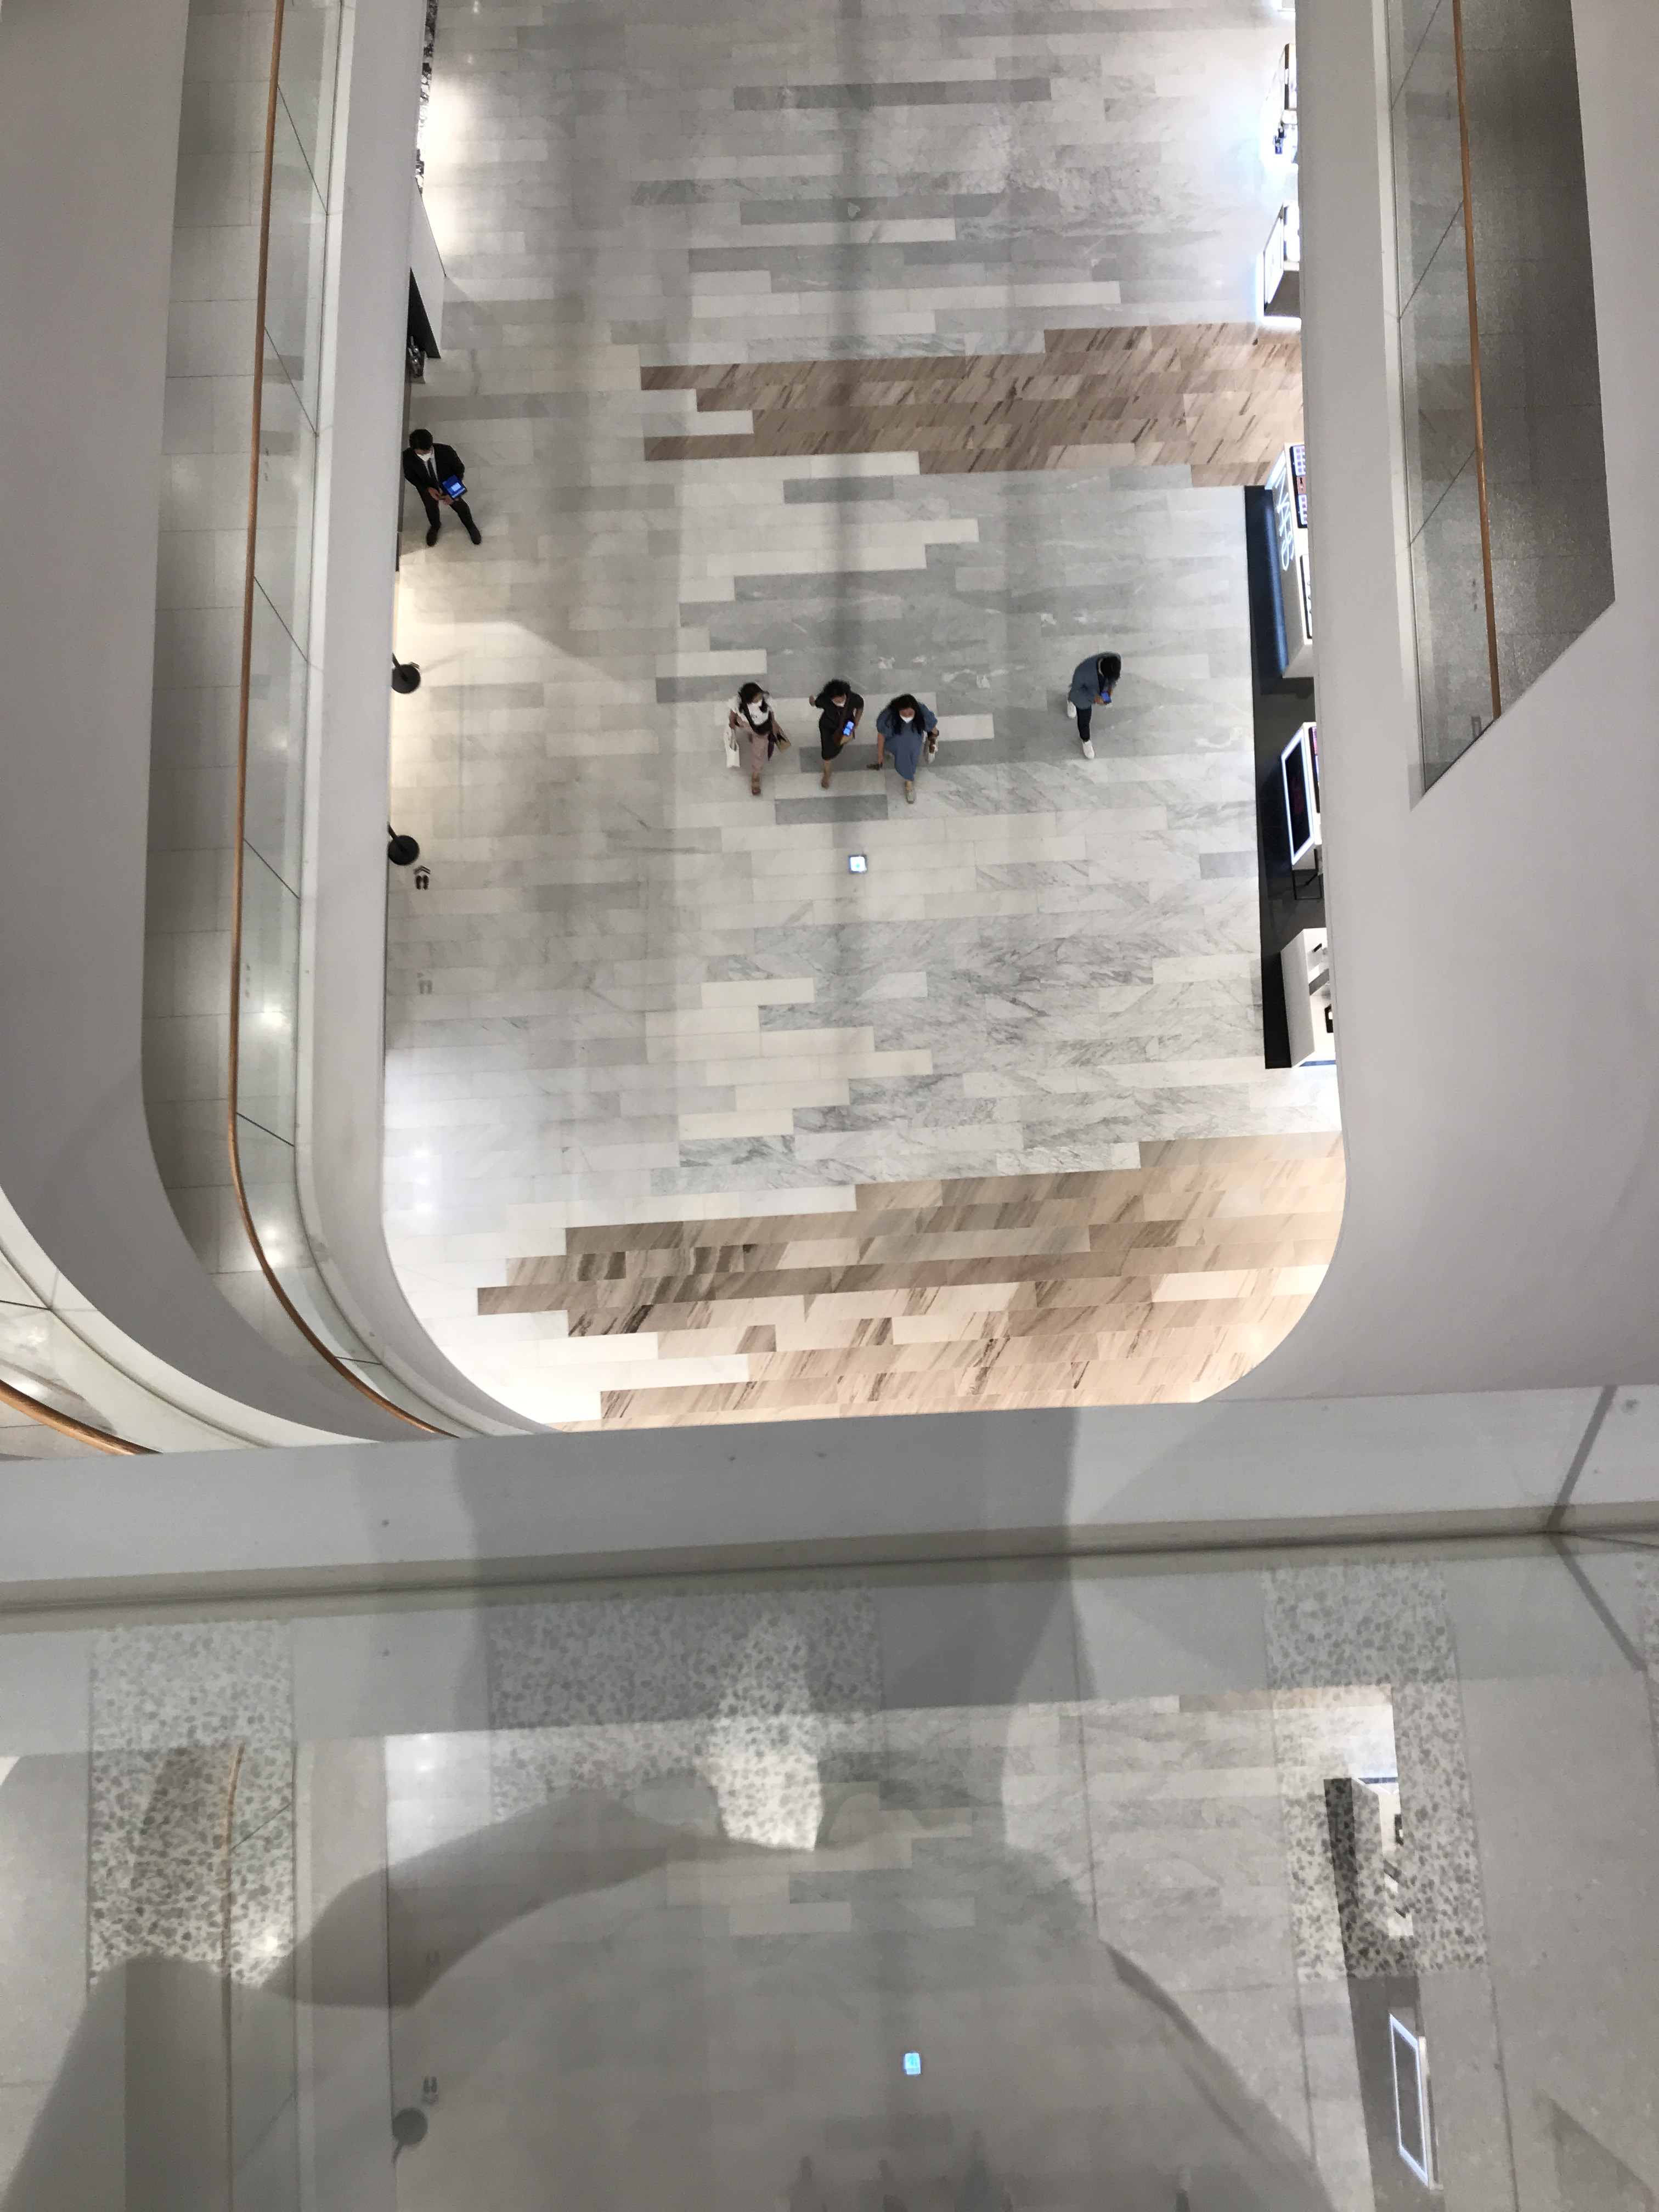person: (400, 428, 485, 547), (724, 680, 792, 797), (873, 692, 940, 805), (1065, 650, 1125, 759), (809, 677, 866, 791)
